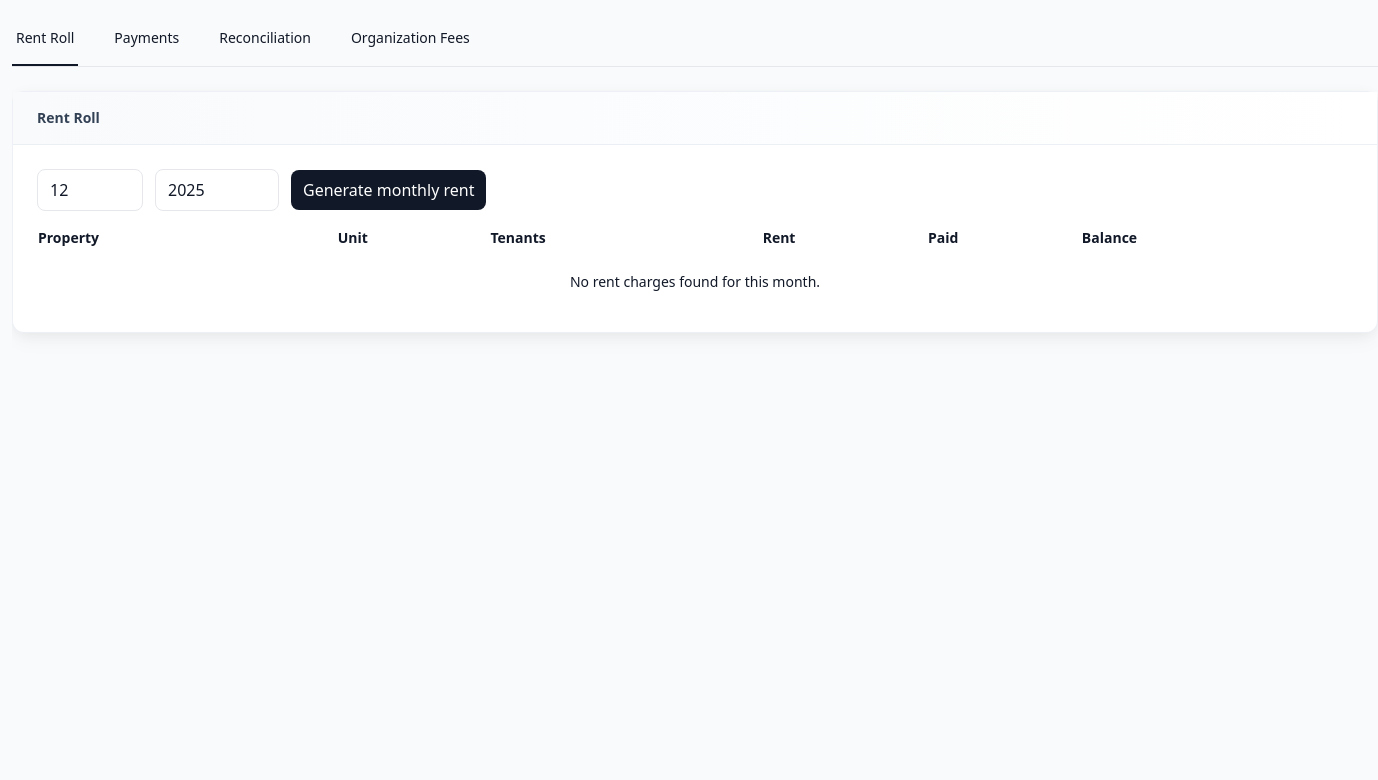
Test: BillingPage › should display payments list in payments tab
The image size is (1378, 780).
Click the button "Payments": (147, 39) [110, 12, 183, 66]
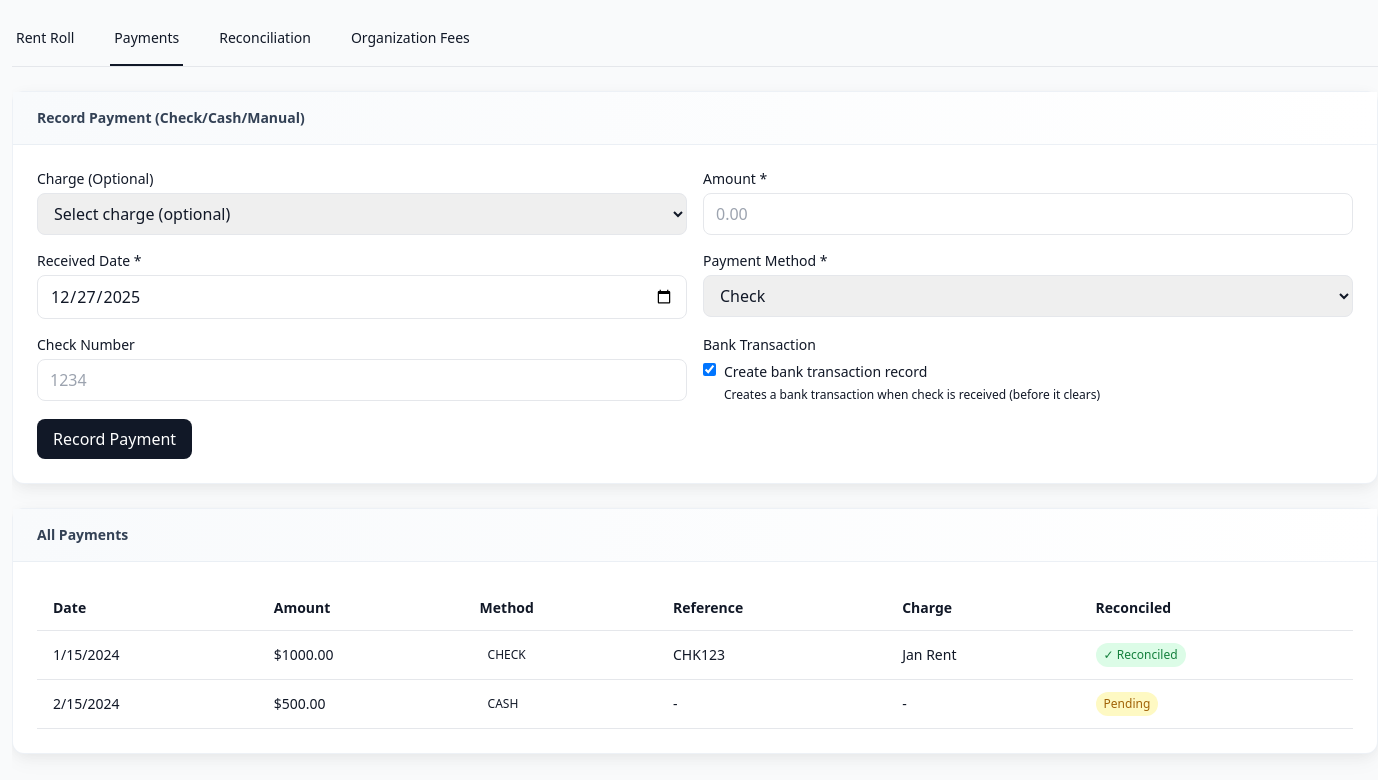
Expected: the text "All Payments" is shown, [13, 509, 1377, 562]
Expected: the text "CHK123" is shown, [657, 630, 886, 680]
Expected: the text "✓ Reconciled" is shown, [1096, 643, 1186, 667]
